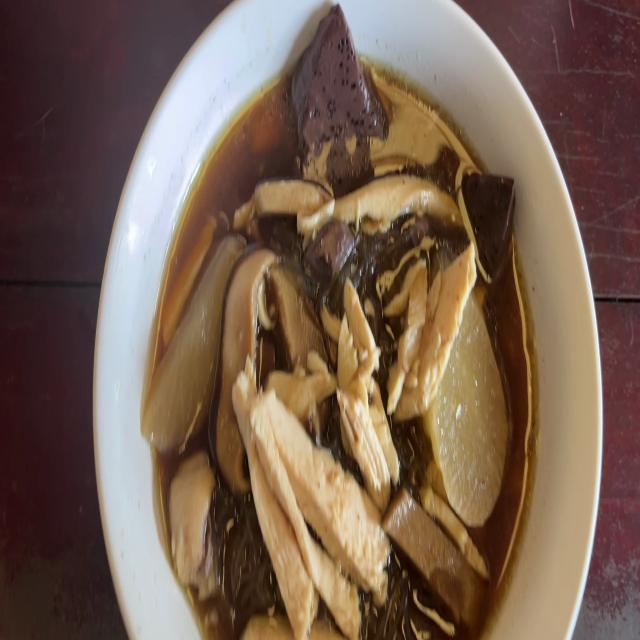noodle: (286, 2, 386, 161), (467, 172, 517, 274), (314, 227, 348, 270)
